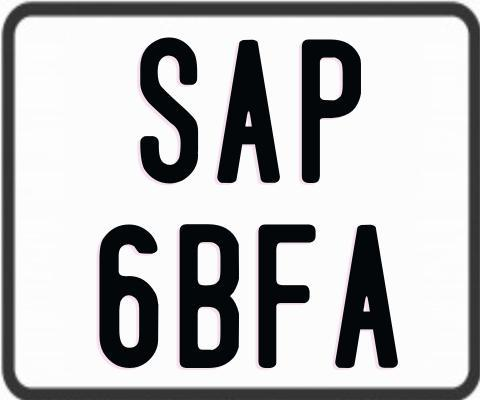6: (97, 223, 158, 366)
A: (332, 222, 400, 368), (215, 40, 279, 185)
B: (177, 223, 241, 369)
F: (257, 222, 320, 372)
P: (300, 38, 364, 187)
S: (137, 34, 195, 182)
